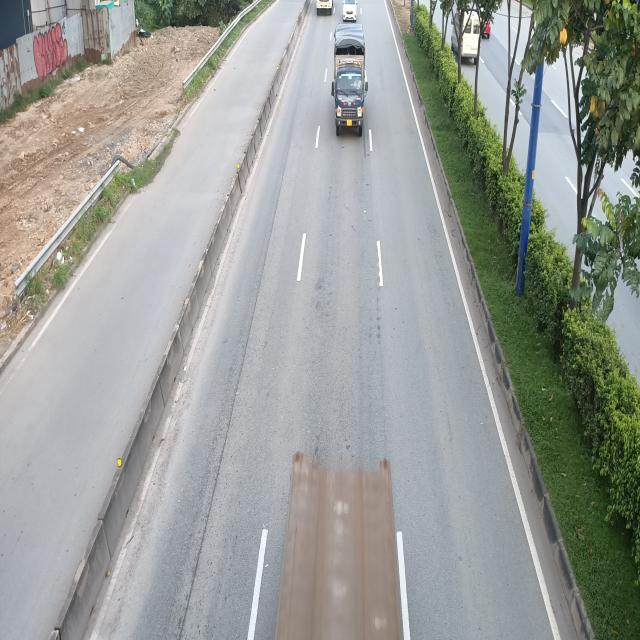container: (272, 449, 400, 640)
truck: (331, 24, 368, 136)
